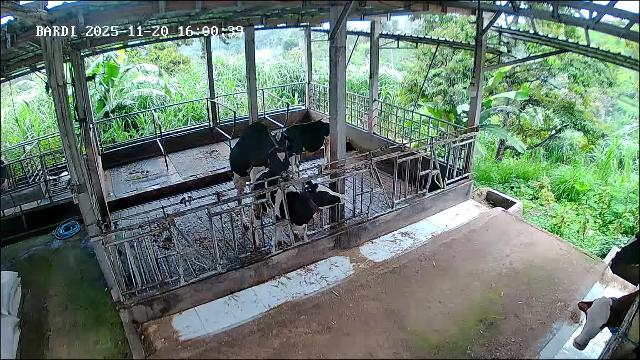mounting: (228, 120, 289, 230)
